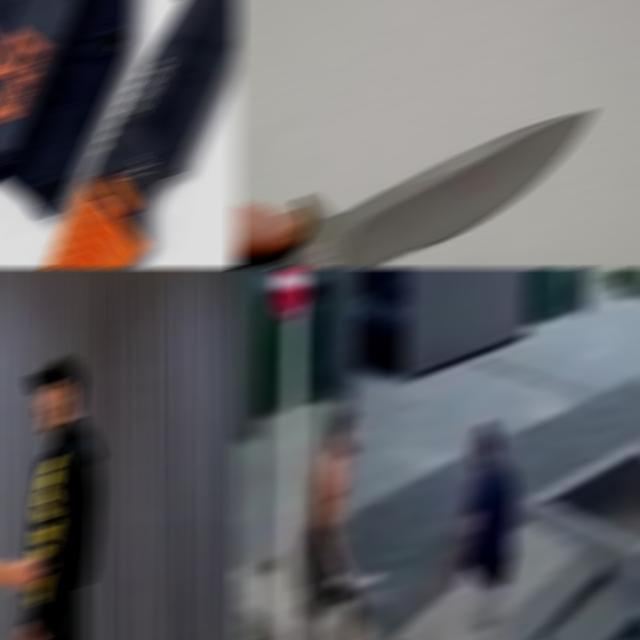Knife: (232, 113, 593, 267), (44, 1, 240, 267), (330, 576, 382, 585)
Knife_Handle: (10, 543, 58, 588), (327, 568, 380, 584)
